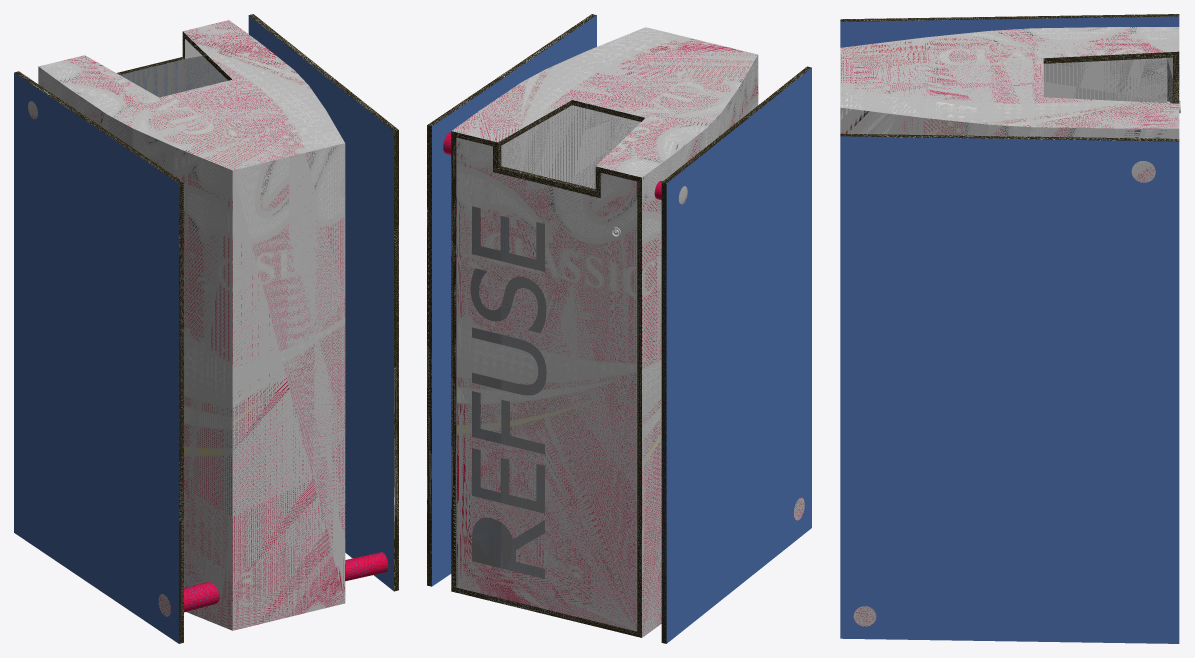
The picture shows the model from 3 angles, left to right: view 1: azimuth 30°, elevation 25°; view 2: azimuth 150°, elevation 25°; view 3: azimuth 270°, elevation 25°; orthographic projection. The views are drawn at different scales.
Parts seen in each view (by area): view 1: mesh3_mesh3-geometry, mesh1_mesh1-geometry, mesh2_mesh2-geometry; view 2: mesh3_mesh3-geometry, mesh1_mesh1-geometry, mesh2_mesh2-geometry; view 3: mesh2_mesh2-geometry, mesh3_mesh3-geometry, mesh1_mesh1-geometry.
Boxes of the visible parts, <box> form: mesh3_mesh3-geometry: <box>38,20,345,630</box>; mesh1_mesh1-geometry: <box>14,71,219,643</box>; mesh2_mesh2-geometry: <box>248,14,398,591</box>; mesh3_mesh3-geometry: <box>451,27,758,637</box>; mesh1_mesh1-geometry: <box>654,66,811,643</box>; mesh2_mesh2-geometry: <box>427,14,596,586</box>; mesh2_mesh2-geometry: <box>840,133,1179,643</box>; mesh3_mesh3-geometry: <box>840,27,1180,138</box>; mesh1_mesh1-geometry: <box>840,14,1179,47</box>.
Bounding box in the file's own units: 0.421 × 0.7732 × 0.4742.
